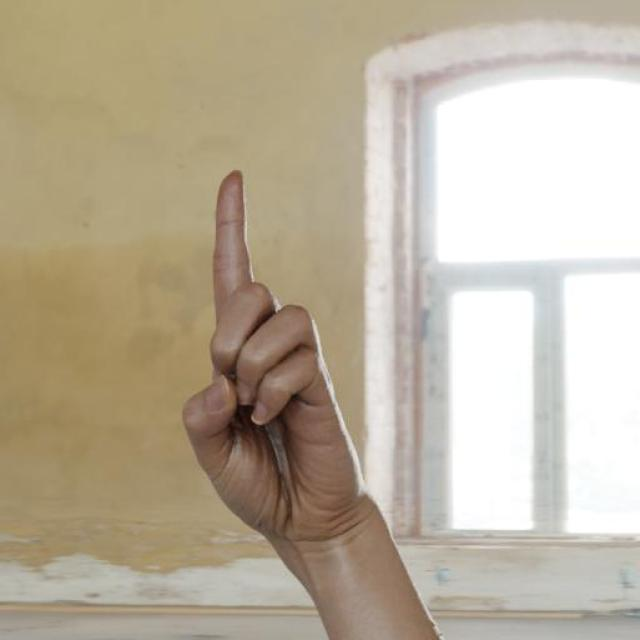D: (172, 160, 384, 559)
